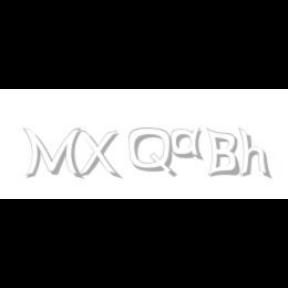B: (206, 128, 240, 178)
M: (22, 128, 82, 180)
Q: (129, 128, 175, 178)
X: (75, 128, 119, 180)
a: (170, 128, 208, 160)
h: (238, 128, 274, 180)
